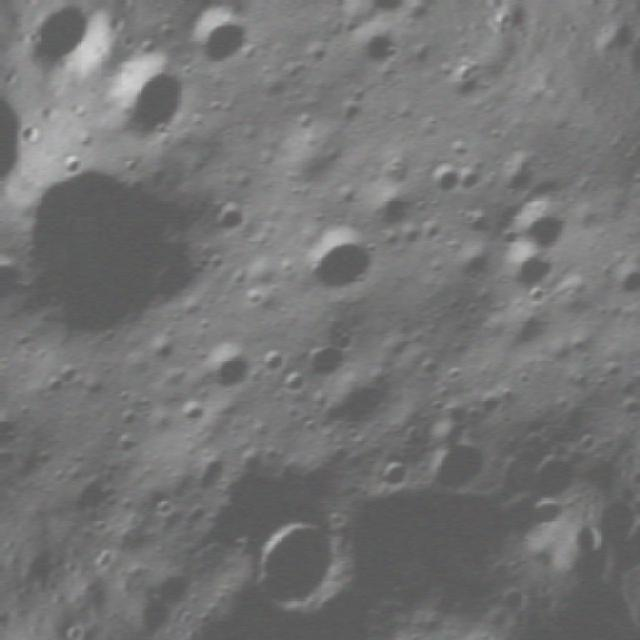crater: (0, 123, 238, 374), (236, 489, 372, 629), (94, 41, 209, 156), (291, 217, 387, 314), (175, 0, 273, 88), (511, 426, 600, 516), (418, 418, 500, 505), (294, 320, 364, 391), (493, 235, 562, 307), (146, 553, 212, 618), (196, 335, 261, 399), (201, 187, 261, 247), (0, 237, 43, 320), (517, 194, 575, 254), (362, 444, 420, 502), (347, 22, 405, 78), (418, 152, 471, 205), (364, 183, 413, 235), (603, 250, 640, 308), (248, 335, 290, 377), (355, 0, 413, 29), (272, 356, 311, 396), (242, 0, 298, 3)
